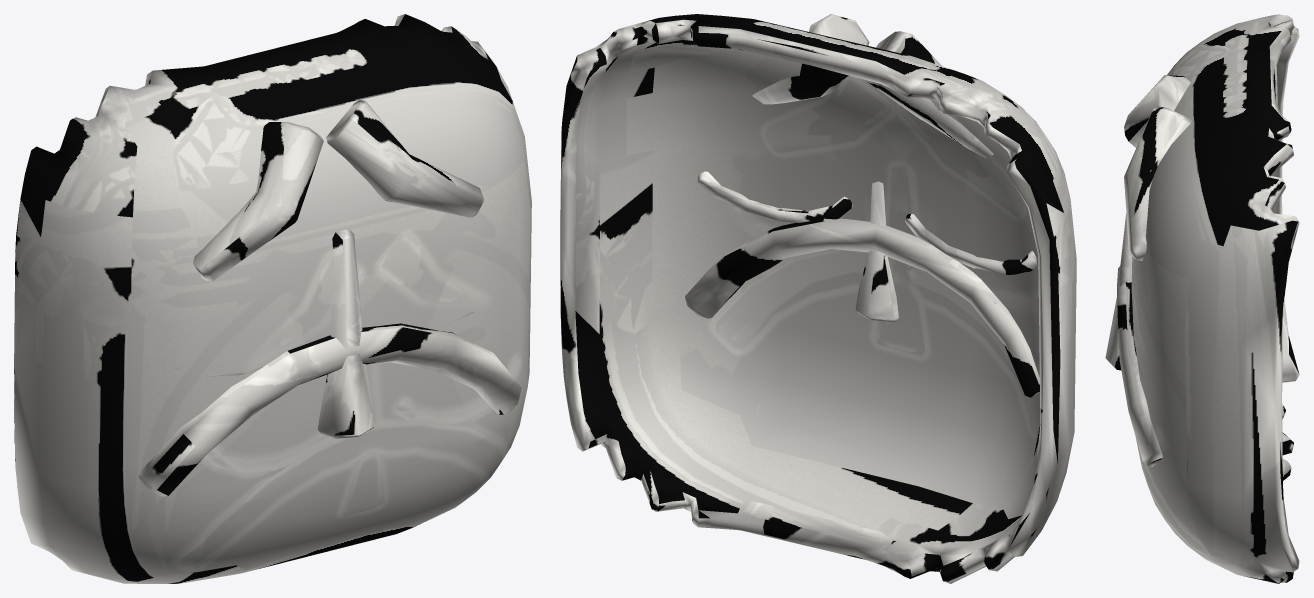
File: Mascarada_MascaraTragedia.fbx
3 renders of one model, left to right at view 1: azimuth 30°, elevation 25°; view 2: azimuth 150°, elevation 25°; view 3: azimuth 270°, elevation 25°, orthographic. The views are drawn at different scales.
Visible parts, largest first — view 1: Mascarada_MascaraTragedia; view 2: Mascarada_MascaraTragedia; view 3: Mascarada_MascaraTragedia.
Boxes of the visible parts, x1,y1,x2,y2 form: Mascarada_MascaraTragedia: (14,14,531,583); Mascarada_MascaraTragedia: (560,14,1076,583); Mascarada_MascaraTragedia: (1105,14,1299,583).
Bounding box in the file's own units: 1.19 × 1.14 × 0.4443.
